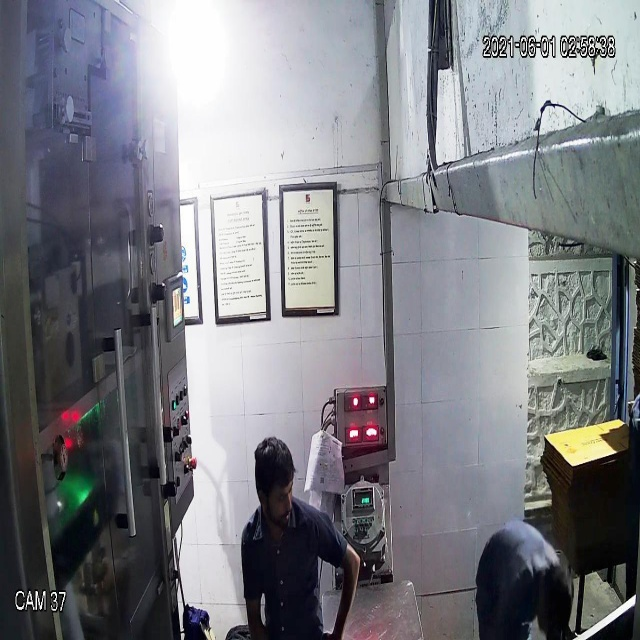Sin_gafas: (255, 482, 298, 511)
